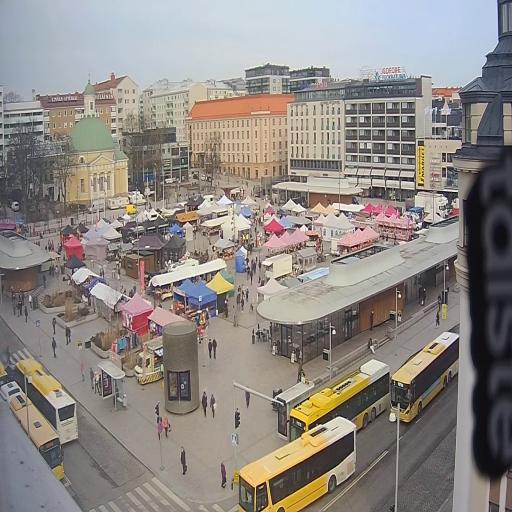bus: (238, 417, 357, 512), (287, 359, 389, 442), (390, 331, 459, 422), (0, 382, 64, 480), (13, 358, 77, 443), (0, 361, 8, 387)
delivery: (134, 336, 163, 384), (415, 192, 450, 218)
